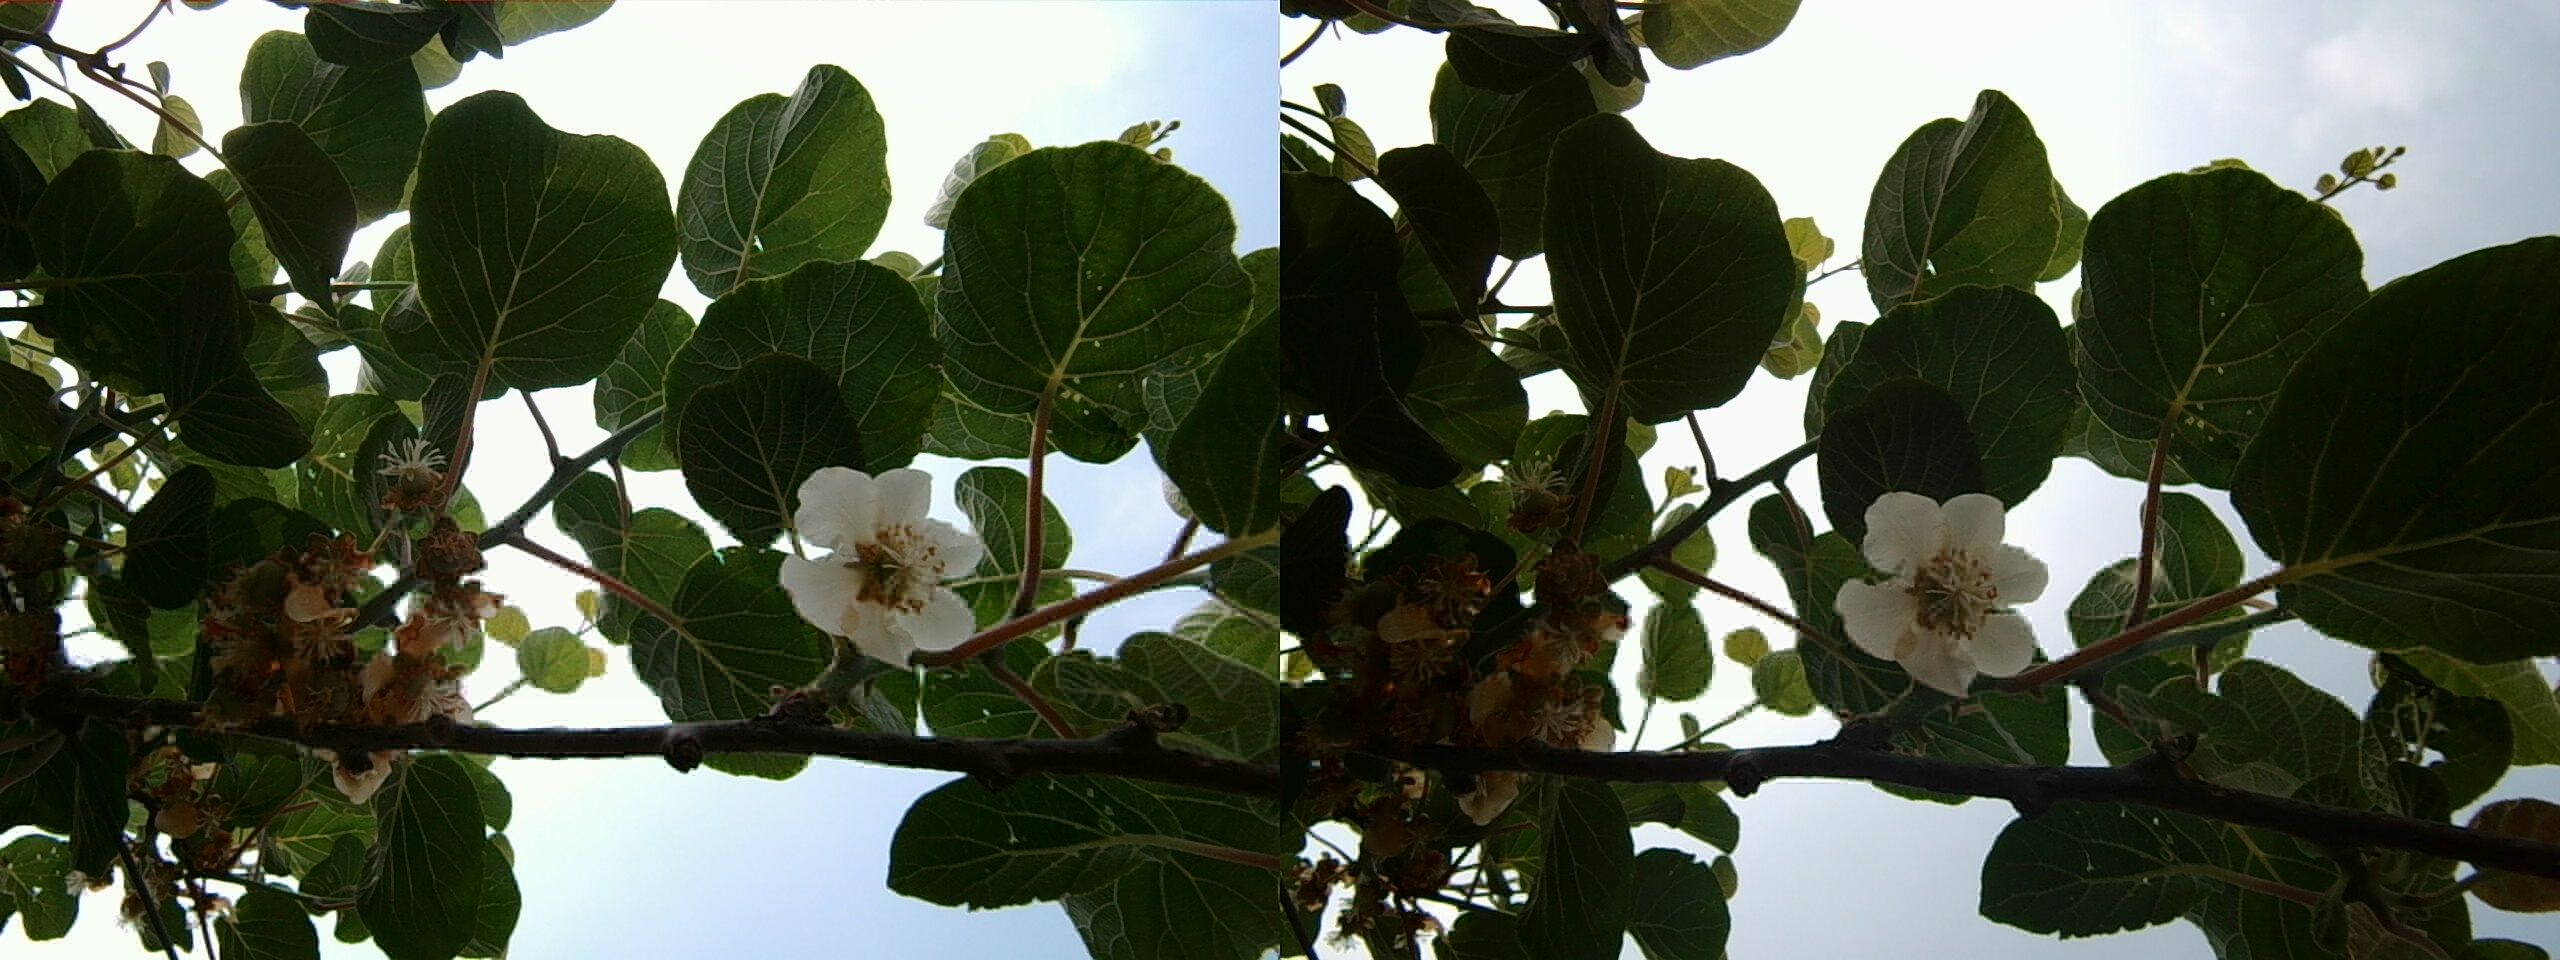flower: (1833, 480, 2051, 686), (784, 452, 993, 661)
